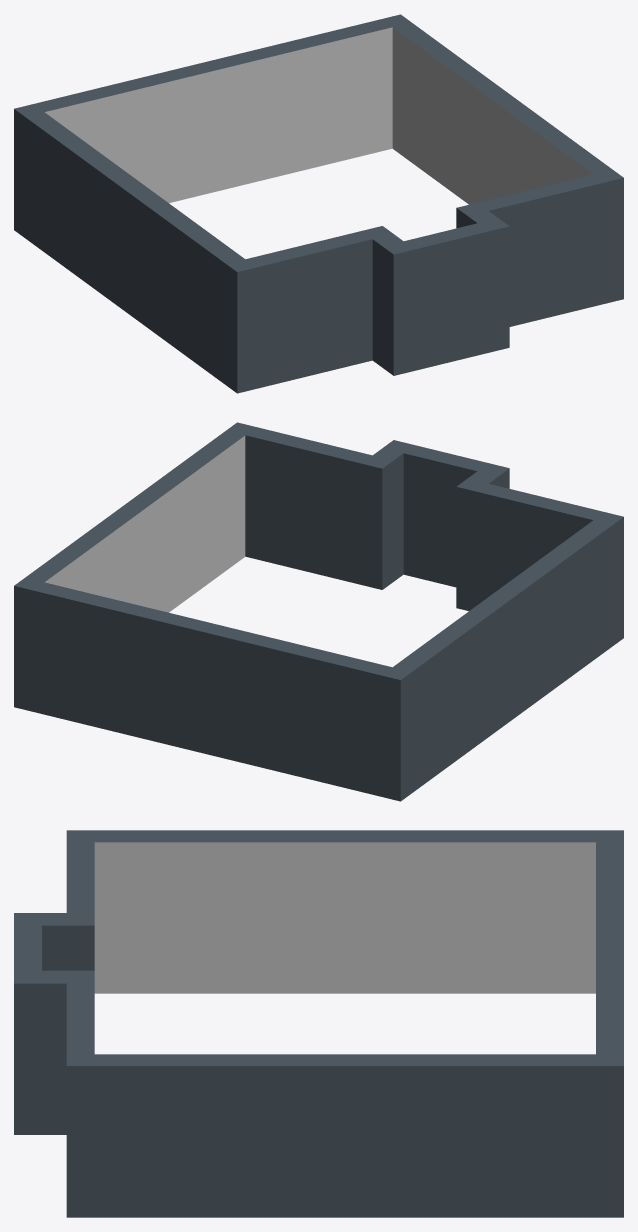
File: Room04_col.FBX
3 renders of one model, top to bottom at view 1: azimuth 30°, elevation 25°; view 2: azimuth 150°, elevation 25°; view 3: azimuth 270°, elevation 25°, orthographic. The views are drawn at different scales.
Parts seen in each view (by area): view 1: Room04_col; view 2: Room04_col; view 3: Room04_col.
Boxes of the visible parts, x1,y1,x2,y2 form: Room04_col: (14, 14, 623, 393); Room04_col: (14, 422, 623, 801); Room04_col: (14, 830, 623, 1217).
Size of the model in its own units: 1000 by 300 by 1095.
